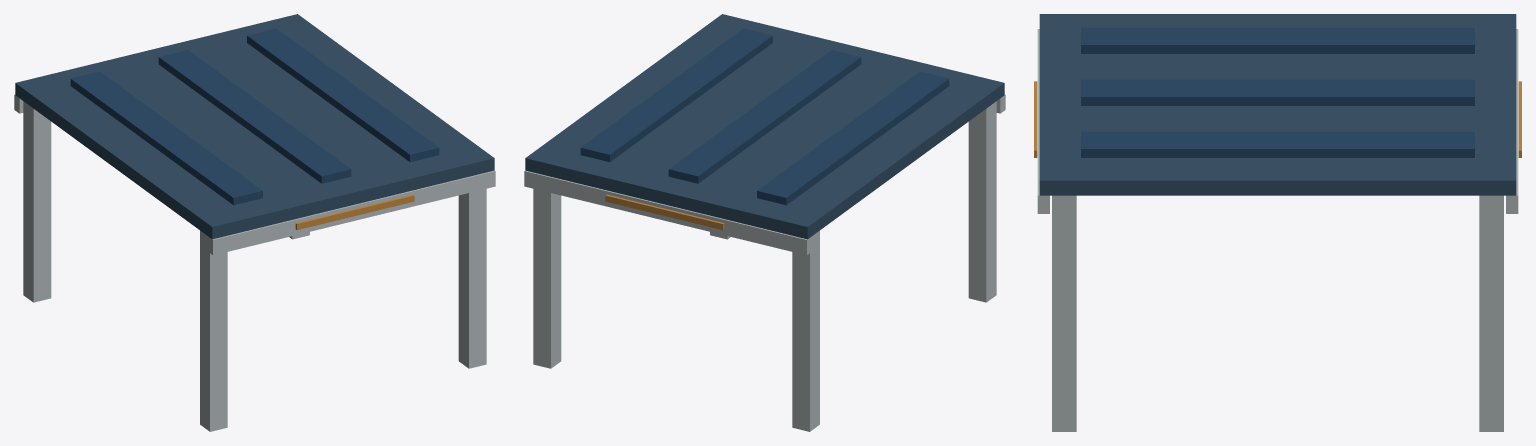
Rendered from SpaceStation_CargoCanopy_Standard.glb.
The picture shows the model from 3 angles, left to right: view 1: azimuth 30°, elevation 25°; view 2: azimuth 150°, elevation 25°; view 3: azimuth 270°, elevation 25°; orthographic projection. The views are drawn at different scales.
Parts seen in each view (by area): view 1: SpaceStation_CargoCanopy_Standard; view 2: SpaceStation_CargoCanopy_Standard; view 3: SpaceStation_CargoCanopy_Standard.
Part boxes in pixels (x1=…): SpaceStation_CargoCanopy_Standard: x1=14, y1=14, x2=495, y2=431; SpaceStation_CargoCanopy_Standard: x1=524, y1=14, x2=1005, y2=431; SpaceStation_CargoCanopy_Standard: x1=1034, y1=14, x2=1521, y2=431.
Bounding box in the file's own units: 4.8 × 3.52 × 5.94.
